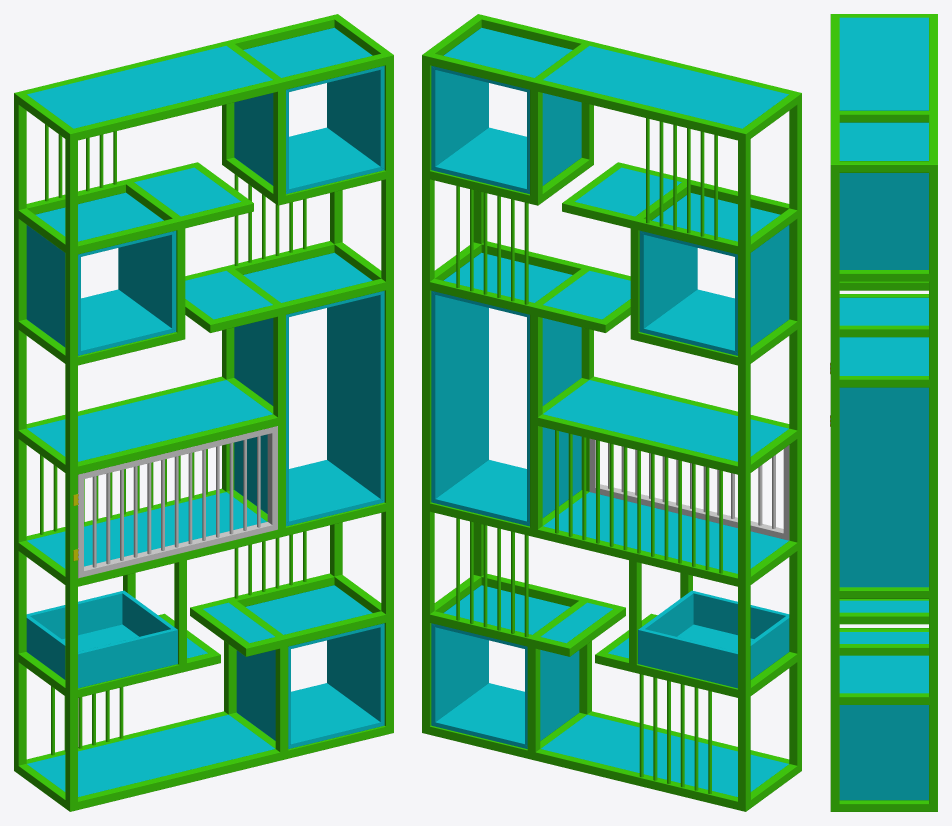
Rendered from bookshelf-041.fbx.
The picture shows the model from 3 angles, left to right: view 1: azimuth 30°, elevation 25°; view 2: azimuth 150°, elevation 25°; view 3: azimuth 270°, elevation 25°; orthographic projection. The views are drawn at different scales.
Parts seen in each view (by area): view 1: bookshelf, door; view 2: bookshelf, door; view 3: bookshelf.
Boxes of the visible parts, bbox=[...] form: bookshelf: bbox=[14, 14, 393, 811]; door: bbox=[78, 426, 277, 578]; bookshelf: bbox=[422, 14, 801, 811]; door: bbox=[589, 438, 789, 540]; bookshelf: bbox=[830, 14, 937, 811].
Size of the model in its own units: 100 by 200 by 30.21.
